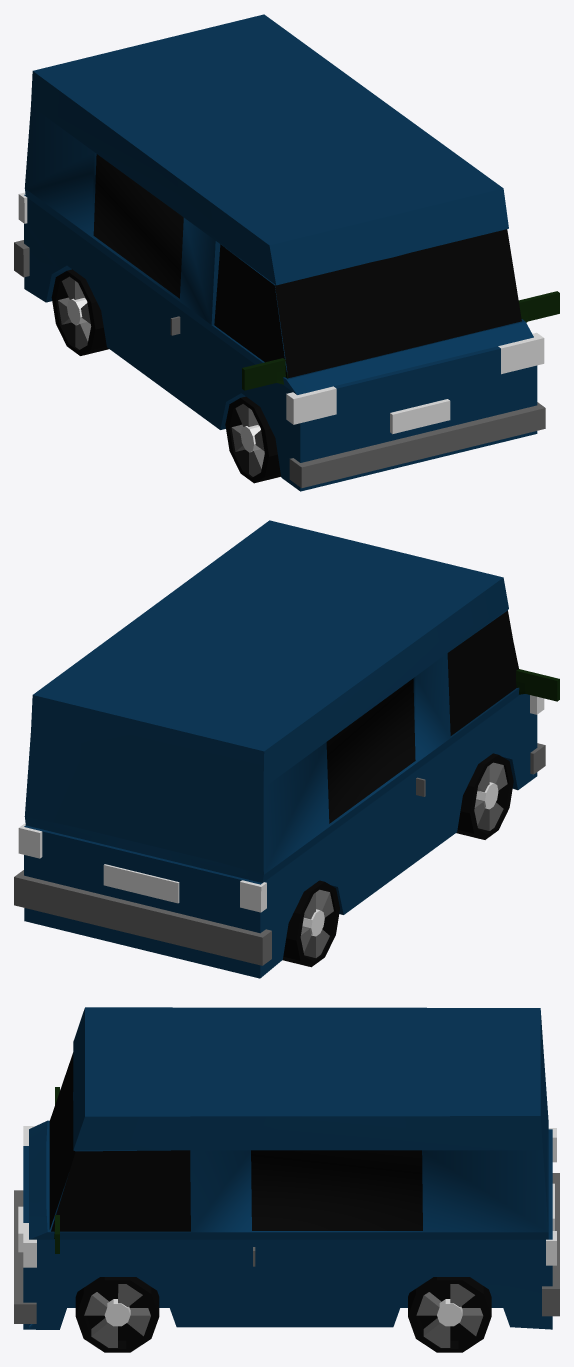
File: car_5.fbx
3 renders of one model, top to bottom at view 1: azimuth 30°, elevation 25°; view 2: azimuth 150°, elevation 25°; view 3: azimuth 270°, elevation 25°, orthographic. The views are drawn at different scales.
Parts seen in each view (by area): view 1: Cube; view 2: Cube; view 3: Cube.
Boxes of the visible parts, left/top/right/bottom form: Cube: left=14, top=14, right=559, bottom=491; Cube: left=14, top=520, right=559, bottom=978; Cube: left=14, top=1007, right=559, bottom=1352.
Size of the model in its own units: 266 by 197 by 417.
